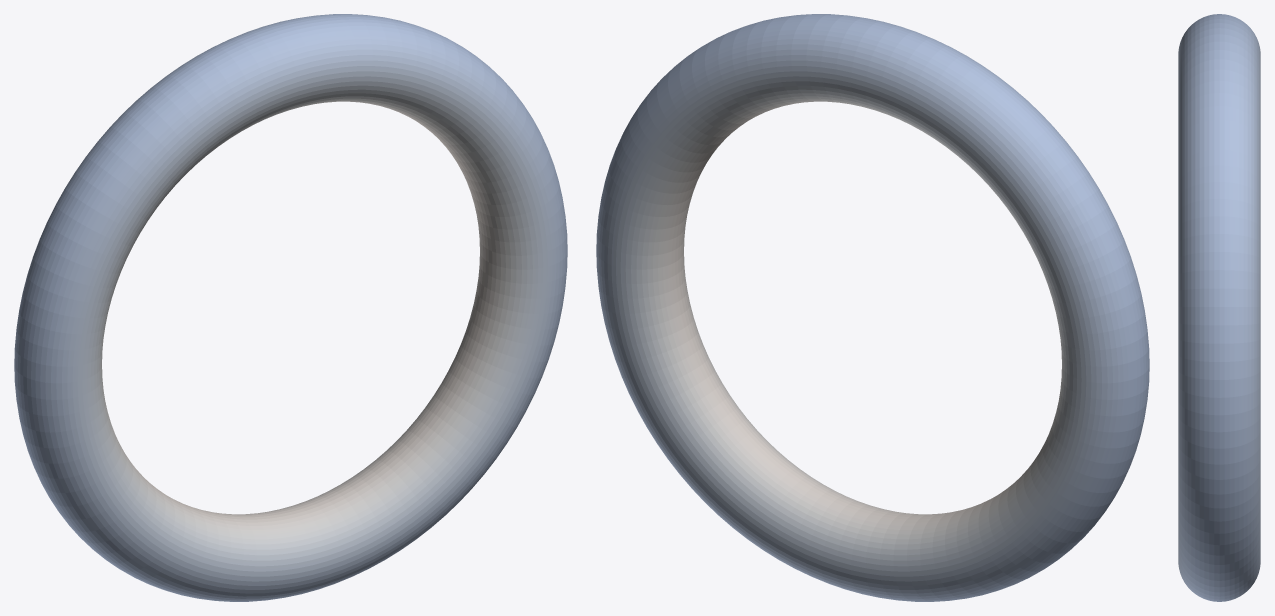
3 renders of one model, left to right at view 1: azimuth 30°, elevation 25°; view 2: azimuth 150°, elevation 25°; view 3: azimuth 270°, elevation 25°, orthographic. The views are drawn at different scales.
Visible parts, largest first — view 1: world; view 2: world; view 3: world.
Boxes of the visible parts, x1,y1,x2,y2 form: world: (14, 14, 567, 601); world: (596, 14, 1149, 601); world: (1178, 14, 1260, 601).
Bounding box in the file's own units: 29.47 × 29.47 × 4.13.
